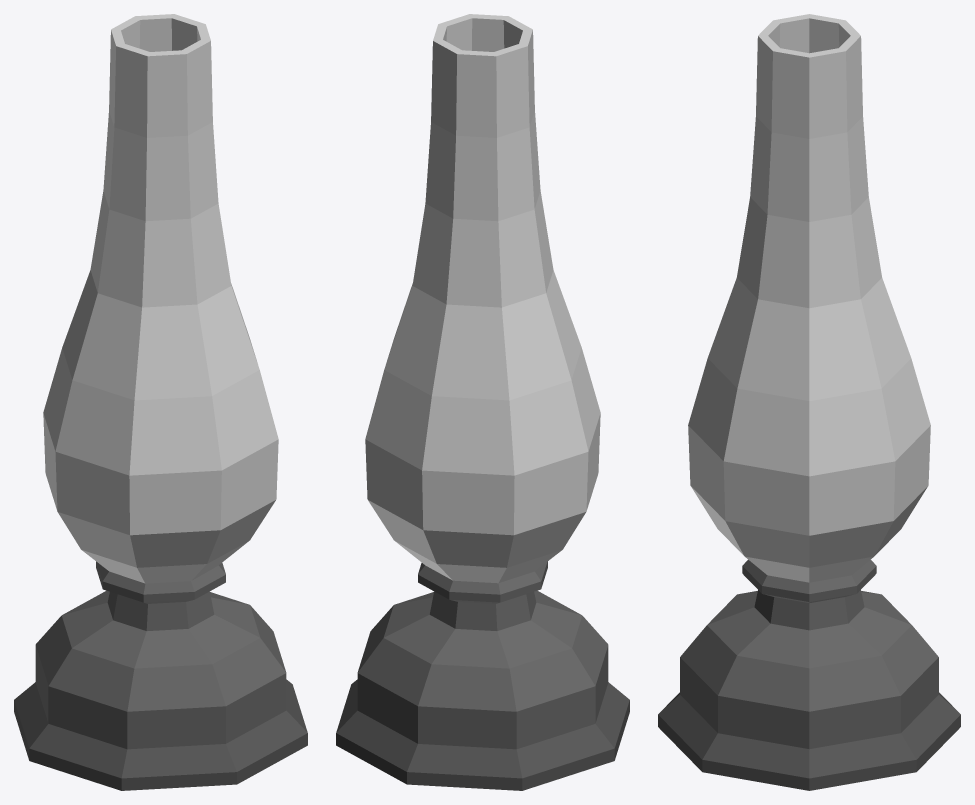
Rendered from Prop_Lantern_02.fbx.
3 renders of one model, left to right at view 1: azimuth 30°, elevation 25°; view 2: azimuth 150°, elevation 25°; view 3: azimuth 270°, elevation 25°, orthographic.
Parts seen in each view (by area): view 1: Prop_Lantern_02_LOD0; view 2: Prop_Lantern_02_LOD0; view 3: Prop_Lantern_02_LOD0.
Part boxes in pixels (x1,y1,x2,y2): Prop_Lantern_02_LOD0: (14, 14, 307, 790); Prop_Lantern_02_LOD0: (336, 14, 629, 790); Prop_Lantern_02_LOD0: (658, 14, 960, 790).
Size of what is drawn, in the model's own units: 22 by 55.38 by 22.
